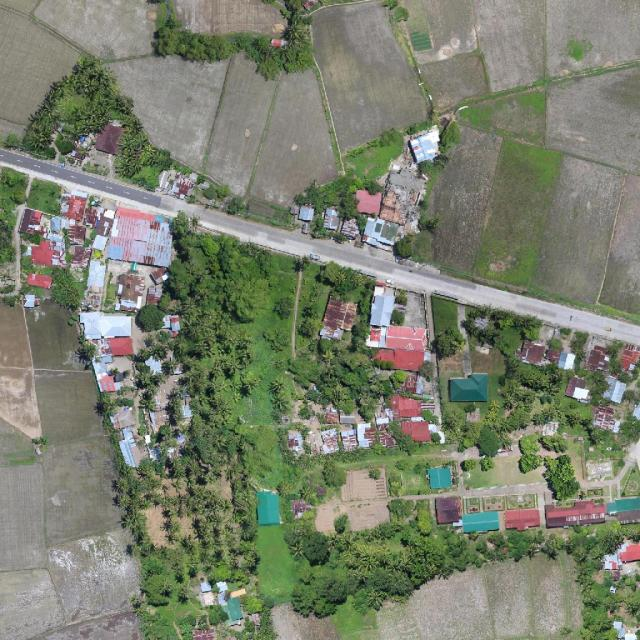agricultural_land: (0, 0, 428, 205), (0, 300, 141, 639), (0, 300, 140, 639), (375, 556, 581, 640)
building: (384, 361, 566, 511), (505, 417, 613, 546), (1, 206, 99, 311), (374, 117, 445, 237), (0, 293, 44, 444), (382, 406, 450, 462), (80, 312, 131, 356), (27, 226, 65, 269), (87, 357, 120, 397), (16, 205, 50, 233), (27, 275, 53, 287)
greenland: (8, 49, 184, 226), (156, 220, 281, 327), (158, 220, 281, 327)
